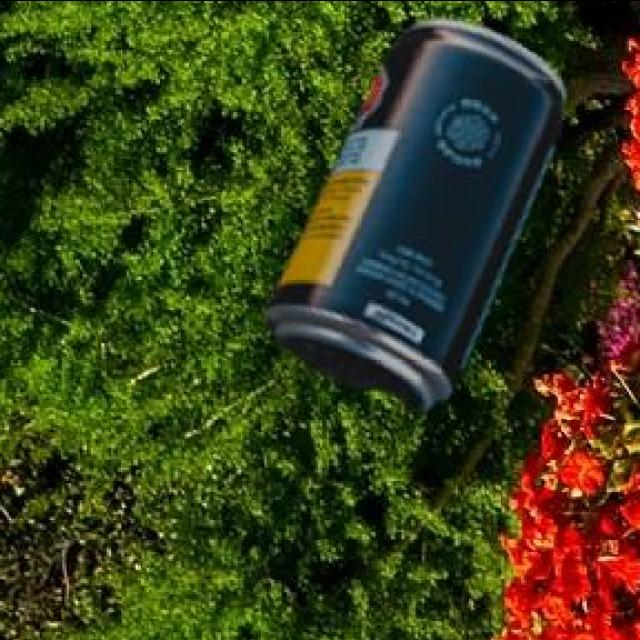logam: (263, 21, 561, 412)
